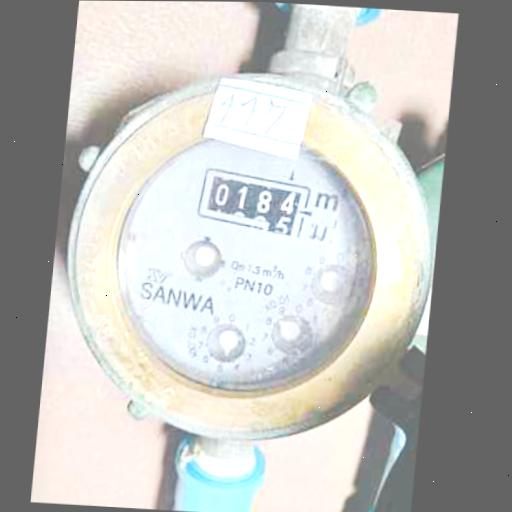0: (205, 175, 237, 213)
1: (228, 180, 257, 218)
4: (265, 187, 302, 238)
8: (247, 184, 277, 223)
border_water_meter_number: (191, 163, 313, 239)
